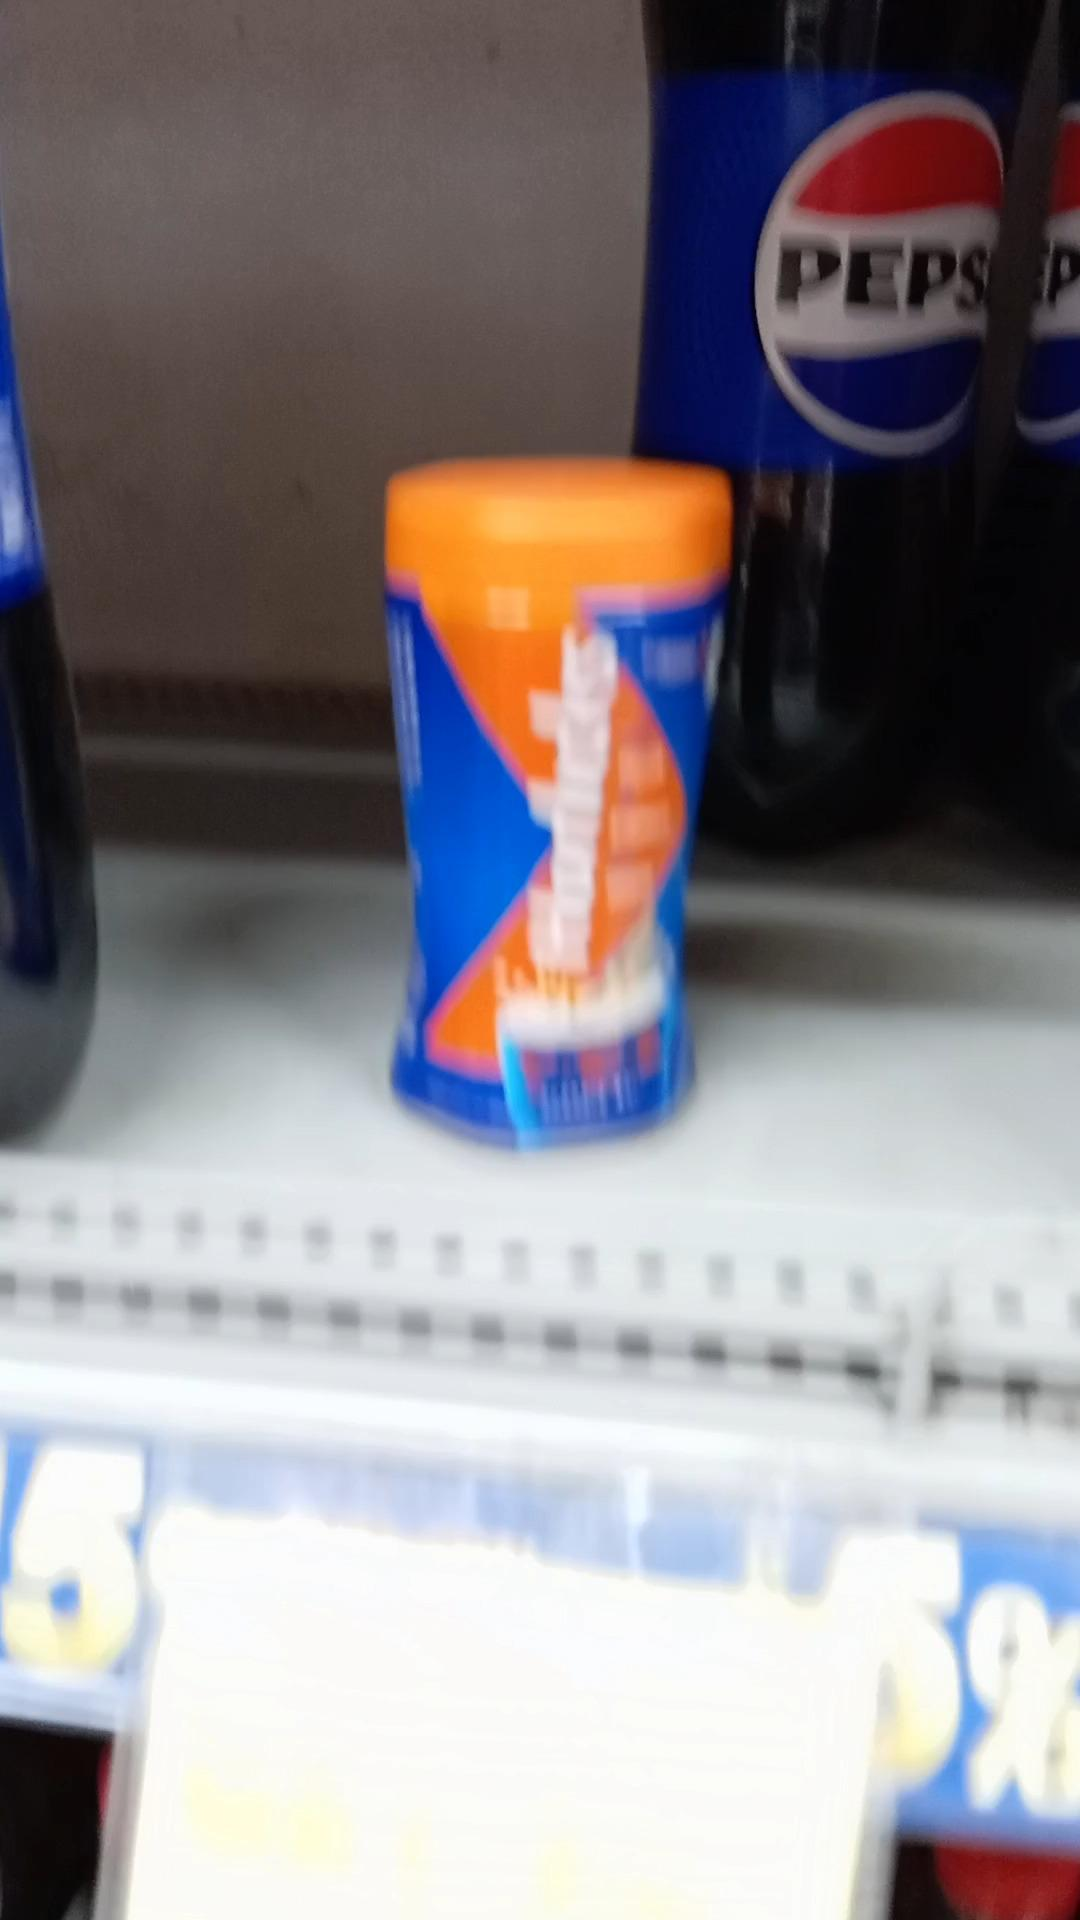HORLICK_CLASSIC_MALT_200_G_JAR: (385, 455, 732, 1138)
